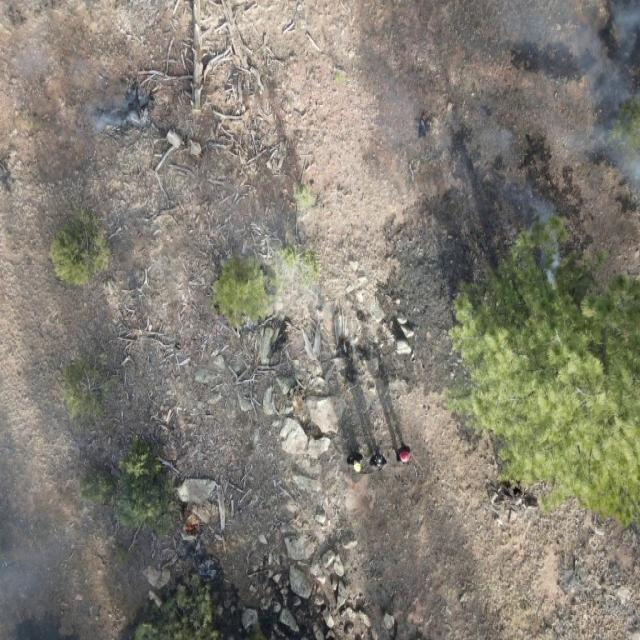fire: (184, 521, 200, 535), (340, 337, 348, 348), (140, 106, 146, 115)
smoke: (386, 0, 637, 249), (0, 336, 182, 640), (0, 0, 171, 159)
